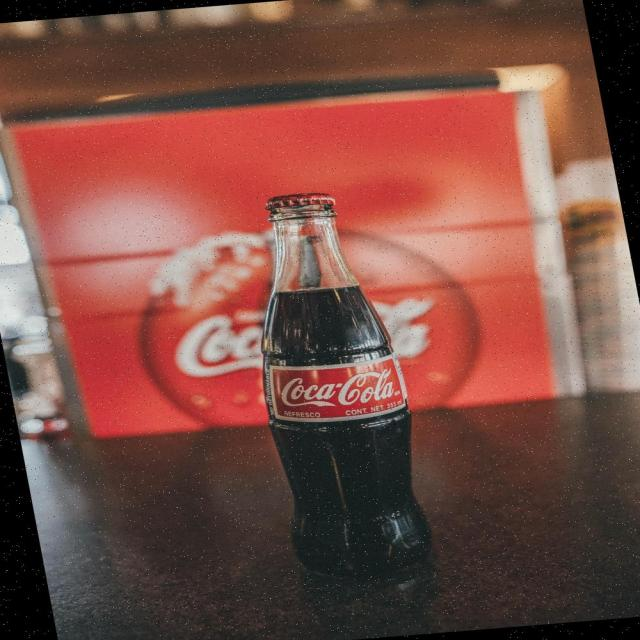coca-cola: (216, 184, 454, 600)
